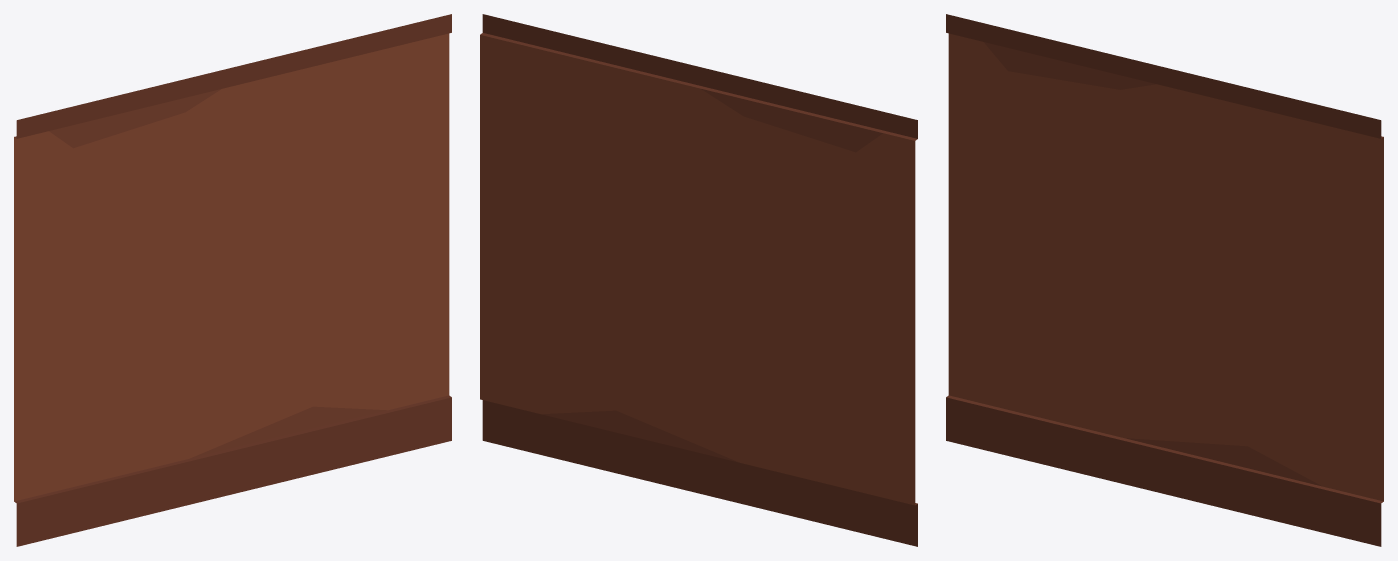
Rendered from AI_Env_Wall_Red_Blank.fbx.
3 renders of one model, left to right at view 1: azimuth 30°, elevation 25°; view 2: azimuth 150°, elevation 25°; view 3: azimuth 330°, elevation 25°, orthographic.
Visible parts, largest first — view 1: AI_Env_Wall_Red_Blank; view 2: AI_Env_Wall_Red_Blank; view 3: AI_Env_Wall_Red_Blank.
Boxes of the visible parts, x1,y1,x2,y2 form: AI_Env_Wall_Red_Blank: [14, 14, 451, 546]; AI_Env_Wall_Red_Blank: [480, 14, 917, 546]; AI_Env_Wall_Red_Blank: [946, 14, 1383, 546].
Bounding box in the file's own units: 5 × 4.69 × 0.0549.
